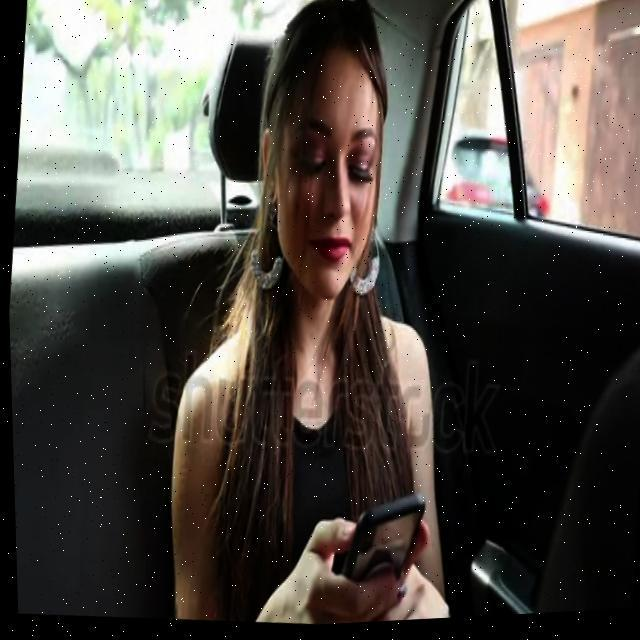PhoneCall: (336, 488, 423, 620)
